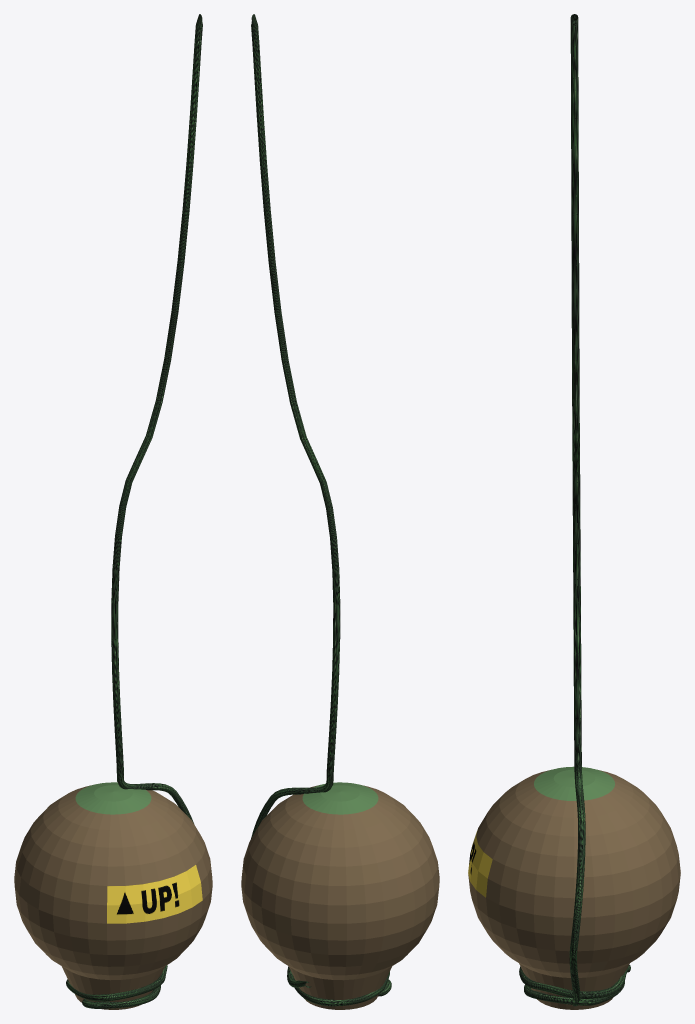
File: ball_With_Fuse4.fbx
3 views of the same model, side by side, from view 1: azimuth 30°, elevation 25°; view 2: azimuth 150°, elevation 25°; view 3: azimuth 270°, elevation 25° (orthographic). The views are drawn at different scales.
Parts seen in each view (by area): view 1: Sphere, Unwrapped, Wrapped; view 2: Sphere, Unwrapped, Wrapped; view 3: Sphere, Unwrapped, Wrapped.
Part boxes in pixels (box(x1,y1,x2,y2)): Sphere: box(14, 782, 212, 1009); Unwrapped: box(111, 14, 202, 823); Wrapped: box(66, 965, 167, 1008); Sphere: box(241, 782, 439, 1009); Unwrapped: box(251, 14, 340, 838); Wrapped: box(287, 966, 391, 1006); Sphere: box(468, 766, 680, 1009); Unwrapped: box(569, 14, 585, 1006); Wrapped: box(519, 965, 630, 1005).
Size of the model in its own units: 14.48 by 74.9 by 14.
